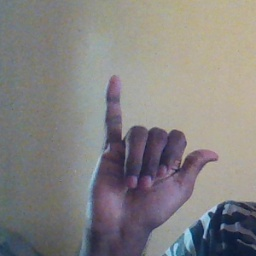J: (82, 73, 219, 240)
